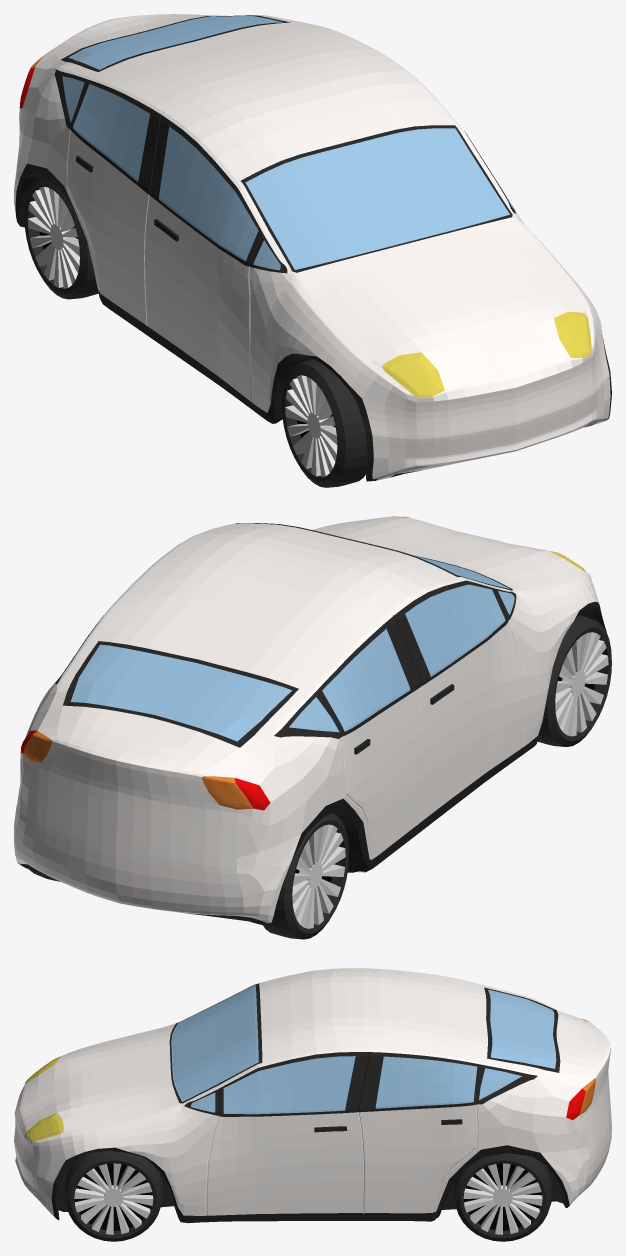
File: Tesla.fbx
3 renders of one model, top to bottom at view 1: azimuth 30°, elevation 25°; view 2: azimuth 150°, elevation 25°; view 3: azimuth 270°, elevation 25°, orthographic. The views are drawn at different scales.
Parts seen in each view (by area): view 1: Cube, FrontWheels, RearWheels; view 2: Cube, FrontWheels, RearWheels; view 3: Cube, FrontWheels, RearWheels.
Boxes of the visible parts, box(x1,y1,x2,y2) form: Cube: box(14, 14, 611, 481); FrontWheels: box(281, 359, 367, 487); RearWheels: box(24, 175, 98, 299); Cube: box(14, 516, 606, 925); FrontWheels: box(537, 615, 611, 746); RearWheels: box(29, 813, 348, 939); Cube: box(14, 968, 611, 1223); FrontWheels: box(64, 1151, 163, 1241); RearWheels: box(453, 1153, 552, 1241).
Size of the model in its own units: 206 by 180 by 498.
